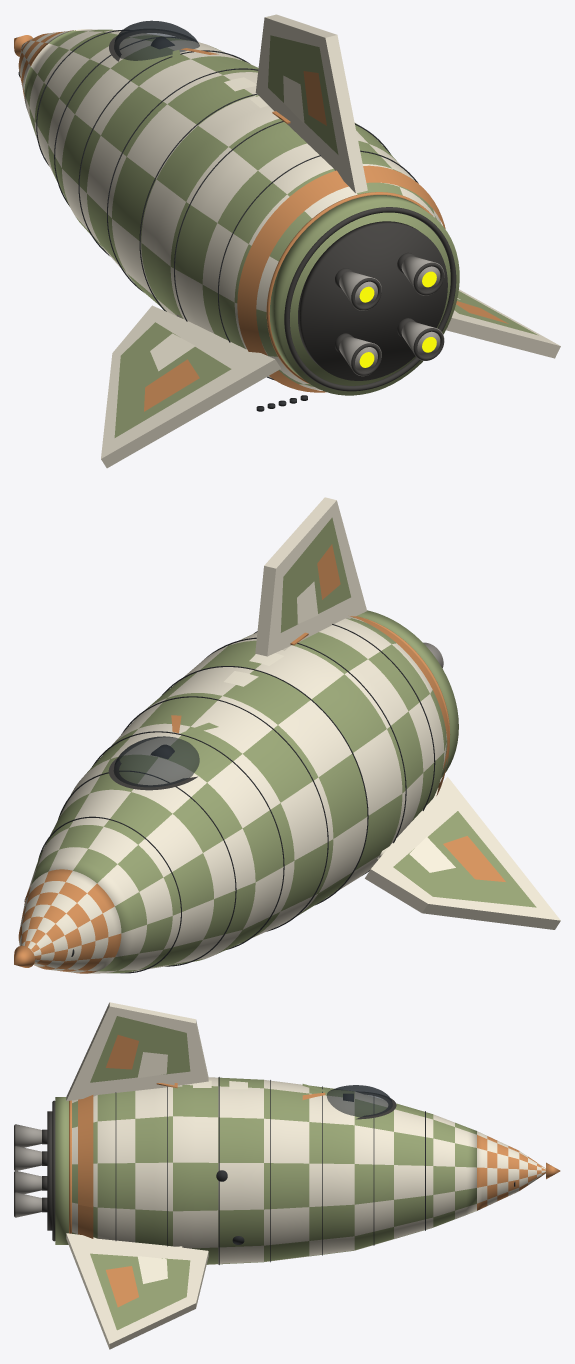
The model's file is Ship_LunarCourier_451424.glb.
3 views of the same model, one above another, from view 1: azimuth 30°, elevation 25°; view 2: azimuth 150°, elevation 25°; view 3: azimuth 270°, elevation 25° (orthographic). The views are drawn at different scales.
Parts seen in each view (by area): view 1: Fuselage_TaperedPaintedBody, EngineDeck_AftDarkMountPlate, TailFin_LeftLower_broad_CreamAerofoil, AftCollar_PrimaryEngineBand, TailFin_Dorsal_broad_CreamAerofoil, PaintBand_AftPrimaryCollar, TailFinPanel_LeftLower_PrimarySide_B, TailFinPanel_Dorsal_PrimarySide_A, AftTrimRing_DarkRear, CanopyGlass_DorsalLowInsetDome, TailFin_RightLower_broad_CreamAerofoil, TailFinCheckerPatch_LeftLower_01_B (+12 smaller); view 2: Fuselage_TaperedPaintedBody, NoseCone_PaintedNeedleSection, TailFin_LeftLower_broad_CreamAerofoil, TailFin_Dorsal_broad_CreamAerofoil, TailFinPanel_LeftLower_PrimarySide_B, CanopyGlass_DorsalLowInsetDome, TailFinPanel_Dorsal_PrimarySide_A, AftCollar_PrimaryEngineBand, TailFinCheckerPatch_LeftLower_01_B, PaintBand_AftPrimaryCollar, TailFinCheckerPatch_LeftLower_02_B, TailFinCheckerPatch_Dorsal_01_A (+6 smaller); view 3: Fuselage_TaperedPaintedBody, TailFin_RightLower_broad_CreamAerofoil, TailFin_Dorsal_broad_CreamAerofoil, TailFinPanel_RightLower_PrimarySide_A, TailFinPanel_Dorsal_PrimarySide_B, NoseCone_PaintedNeedleSection, PaintBand_AftPrimaryCollar, AftCollar_PrimaryEngineBand, CanopyGlass_DorsalLowInsetDome, TailFinCheckerPatch_RightLower_01_A, TailFinCheckerPatch_Dorsal_01_B, EngineDeck_AftDarkMountPlate (+7 smaller).
Part boxes in pixels (<box>): Fuselage_TaperedPaintedBody: <box>24,29,441,389</box>; EngineDeck_AftDarkMountPlate: <box>298,221,447,380</box>; TailFin_LeftLower_broad_CreamAerofoil: <box>101,305,280,468</box>; AftCollar_PrimaryEngineBand: <box>269,195,459,395</box>; TailFin_Dorsal_broad_CreamAerofoil: <box>255,14,367,193</box>; PaintBand_AftPrimaryCollar: <box>237,165,445,392</box>; TailFinPanel_LeftLower_PrimarySide_B: <box>114,322,231,437</box>; TailFinPanel_Dorsal_PrimarySide_A: <box>268,35,338,154</box>; AftTrimRing_DarkRear: <box>284,207,456,391</box>; CanopyGlass_DorsalLowInsetDome: <box>114,20,199,60</box>; TailFin_RightLower_broad_CreamAerofoil: <box>446,289,560,358</box>; TailFinCheckerPatch_LeftLower_01_B: <box>144,359,199,411</box>; Fuselage_TaperedPaintedBody: <box>28,617,447,973</box>; NoseCone_PaintedNeedleSection: <box>18,869,121,973</box>; TailFin_LeftLower_broad_CreamAerofoil: <box>365,776,560,929</box>; TailFin_Dorsal_broad_CreamAerofoil: <box>255,497,366,656</box>; TailFinPanel_LeftLower_PrimarySide_B: <box>393,811,536,907</box>; CanopyGlass_DorsalLowInsetDome: <box>113,736,199,787</box>; TailFinPanel_Dorsal_PrimarySide_A: <box>280,517,350,632</box>; AftCollar_PrimaryEngineBand: <box>357,610,458,778</box>; TailFinCheckerPatch_LeftLower_01_B: <box>443,836,505,881</box>; PaintBand_AftPrimaryCollar: <box>350,616,449,795</box>; TailFinCheckerPatch_LeftLower_02_B: <box>409,837,455,872</box>; TailFinCheckerPatch_Dorsal_01_A: <box>317,544,340,599</box>; Fuselage_TaperedPaintedBody: <box>72,1077,476,1264</box>; TailFin_RightLower_broad_CreamAerofoil: <box>66,1233,208,1349</box>; TailFin_Dorsal_broad_CreamAerofoil: <box>66,1002,208,1101</box>; TailFinPanel_RightLower_PrimarySide_A: <box>90,1253,190,1330</box>; TailFinPanel_Dorsal_PrimarySide_B: <box>90,1016,190,1082</box>; NoseCone_PaintedNeedleSection: <box>477,1131,545,1210</box>; PaintBand_AftPrimaryCollar: <box>78,1095,93,1238</box>; AftCollar_PrimaryEngineBand: <box>55,1097,68,1244</box>; CanopyGlass_DorsalLowInsetDome: <box>326,1085,392,1117</box>; TailFinCheckerPatch_RightLower_01_A: <box>106,1266,138,1307</box>; TailFinCheckerPatch_Dorsal_01_B: <box>105,1035,138,1069</box>; EngineDeck_AftDarkMountPlate: <box>47,1111,52,1230</box>.
Bounding box in the file's own units: 5.06 × 3.97 × 7.32.
